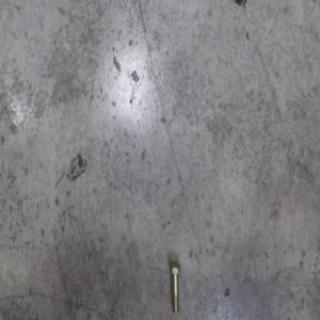Bolttrack_idkeyframe: (168, 259, 180, 313)
